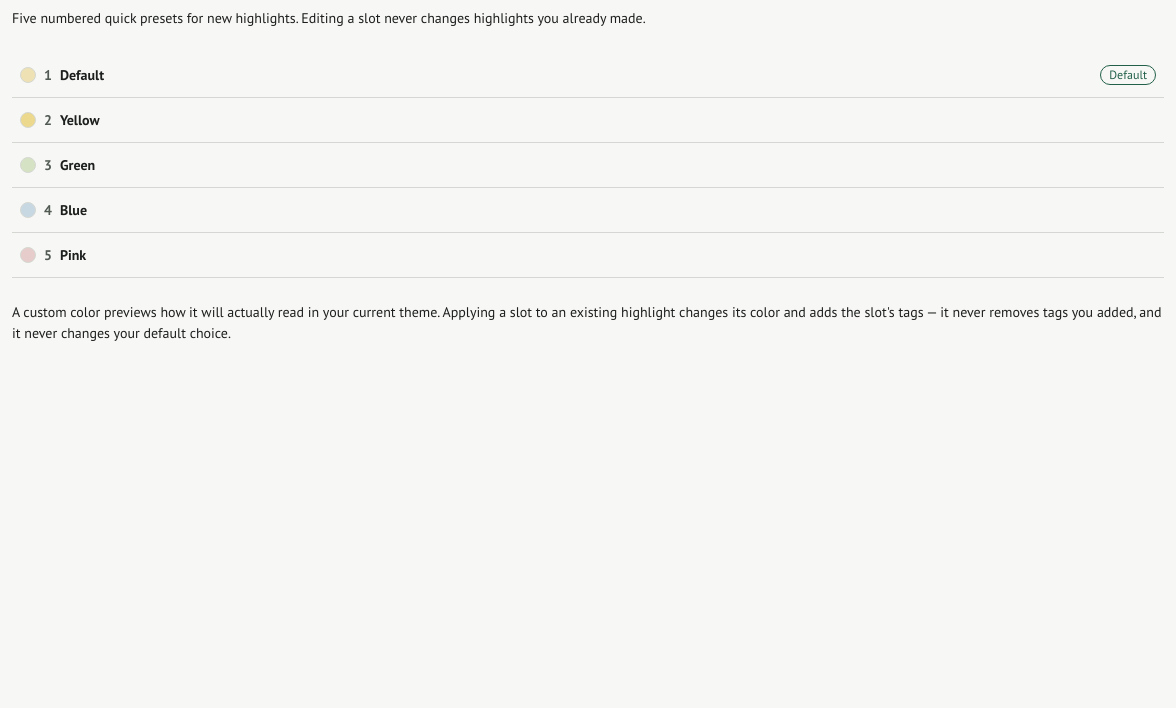
HighlightSlotSettings — the settings accordion (issue #222) › expanding a row reveals its editor; expanding another collapses the first (ONE at a time)
Click the button "2 Yellow" at (80, 120), box [12,98,1164,142]
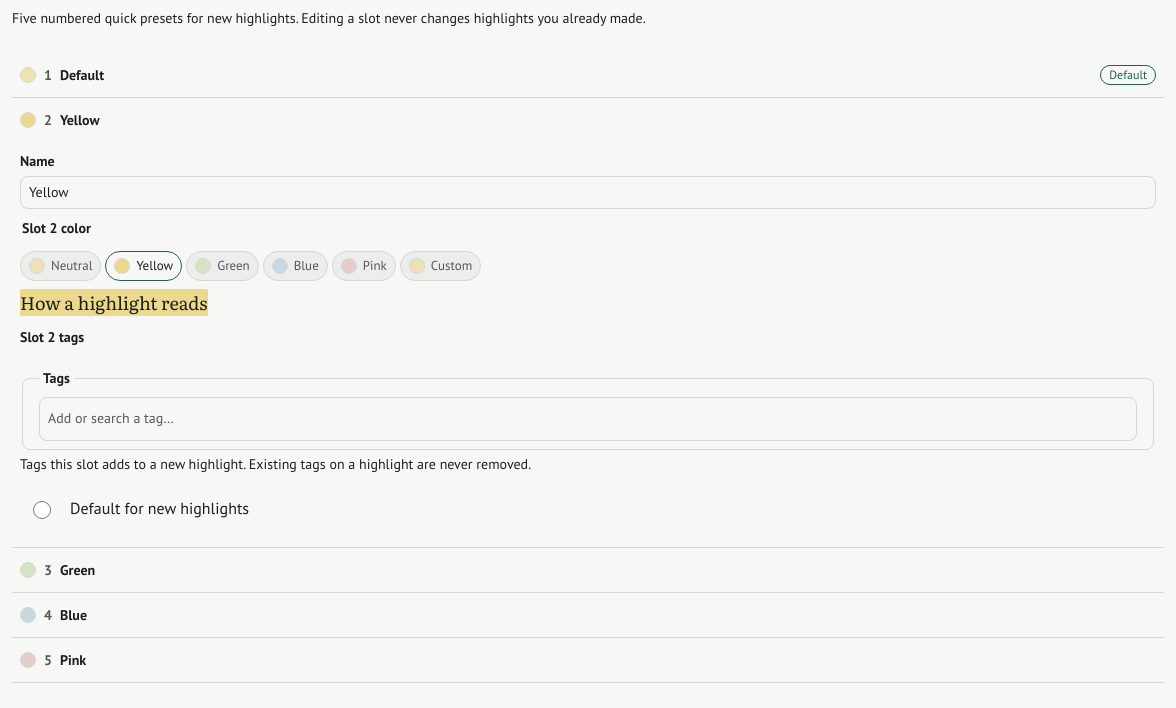
Expected: the field named "Slot 2 name" is shown, [20,176,1156,209]
Click the button "3 Green" at (78, 570), box [12,548,1164,592]
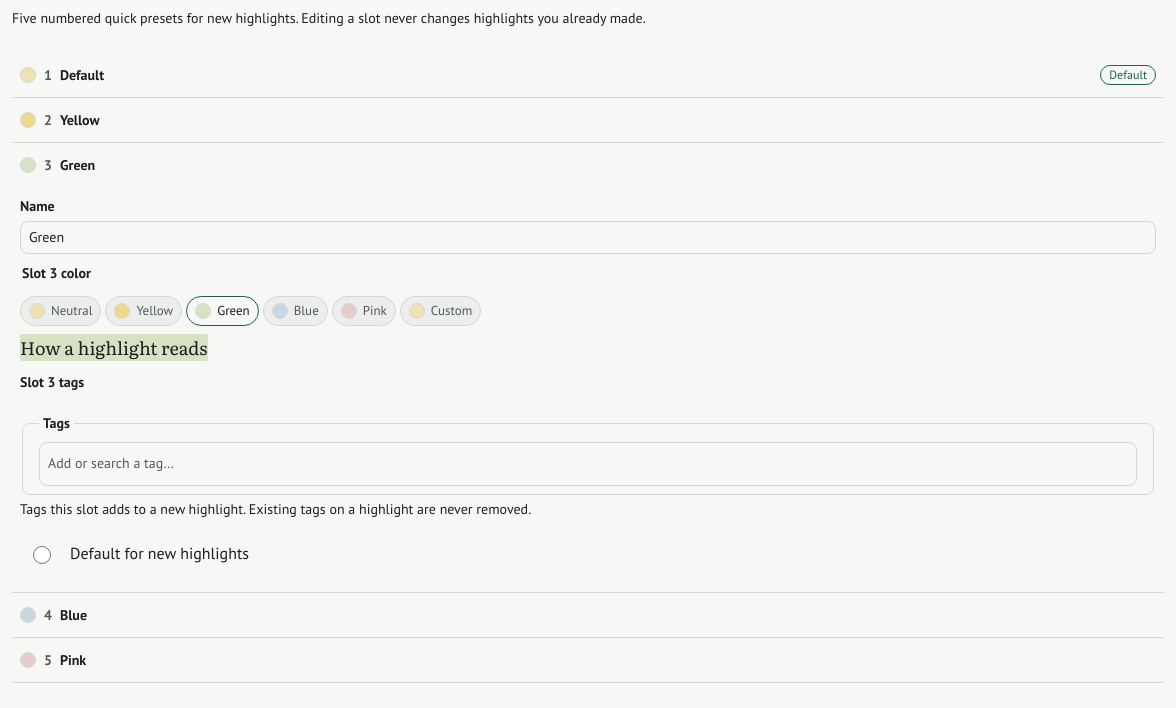
Expected: the field named "Slot 3 name" is shown, [20,221,1156,254]
